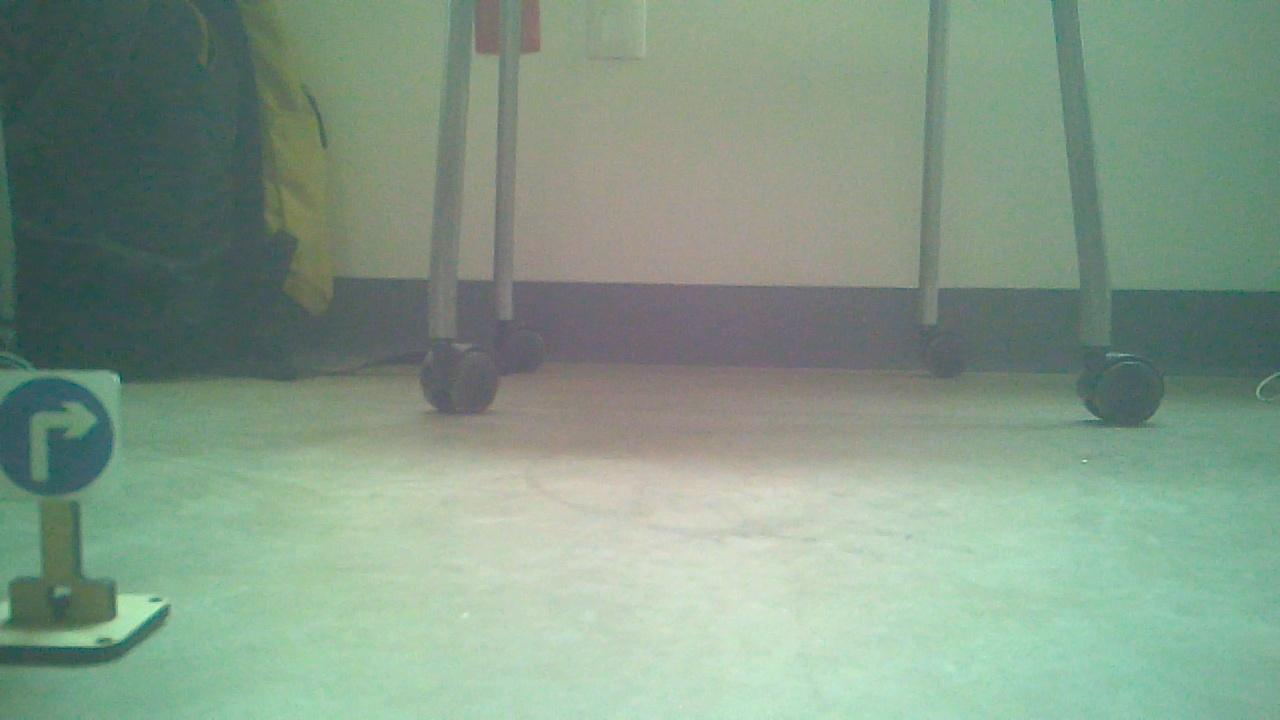turn: (0, 374, 116, 492)
